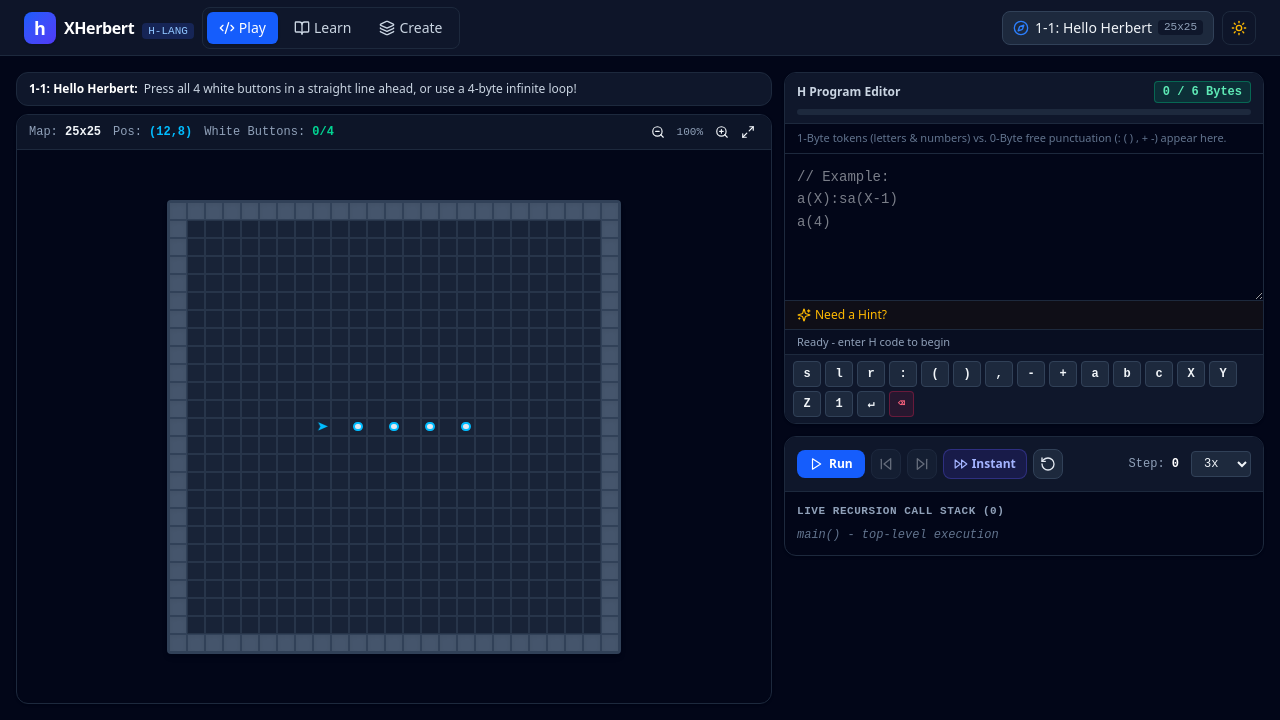
Scenario: XHerbert Full UI Integration Tests (Play, Learn, Create & Theme) › switches levels via the 50-level Level Selector Modal with chapter filters and progress summary
What coordinates should you click on to do the following:
click the button with test id "level-selector-btn"
I would click on:
 (1108, 28)
Its box is [1002,10,1214,44].
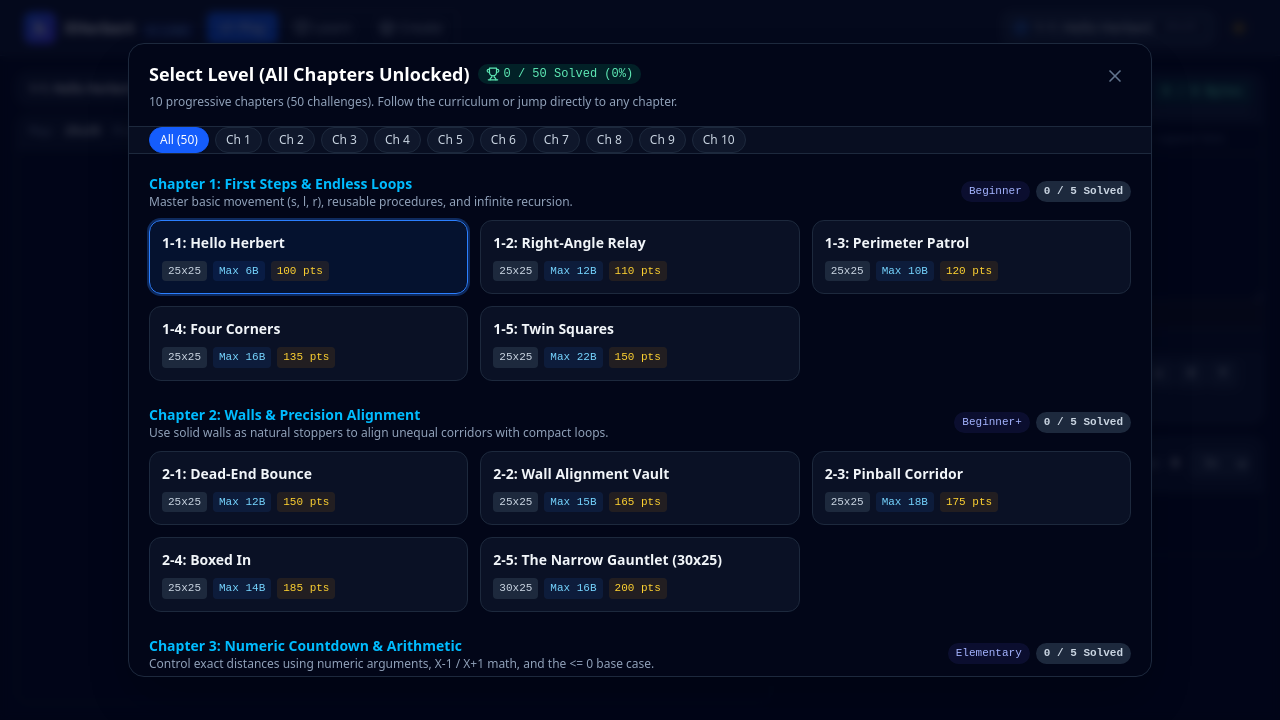
Expected: the element with test id "level-modal" is shown
Expected: the element with test id "campaign-progress-summary" shows "0 / 50 Solved", [478,64,641,84]
What coordinates should you click on to do the following:
click the button with test id "chapter-filter-4"
I would click on:
 (397, 140)
Its box is [374,127,421,153].
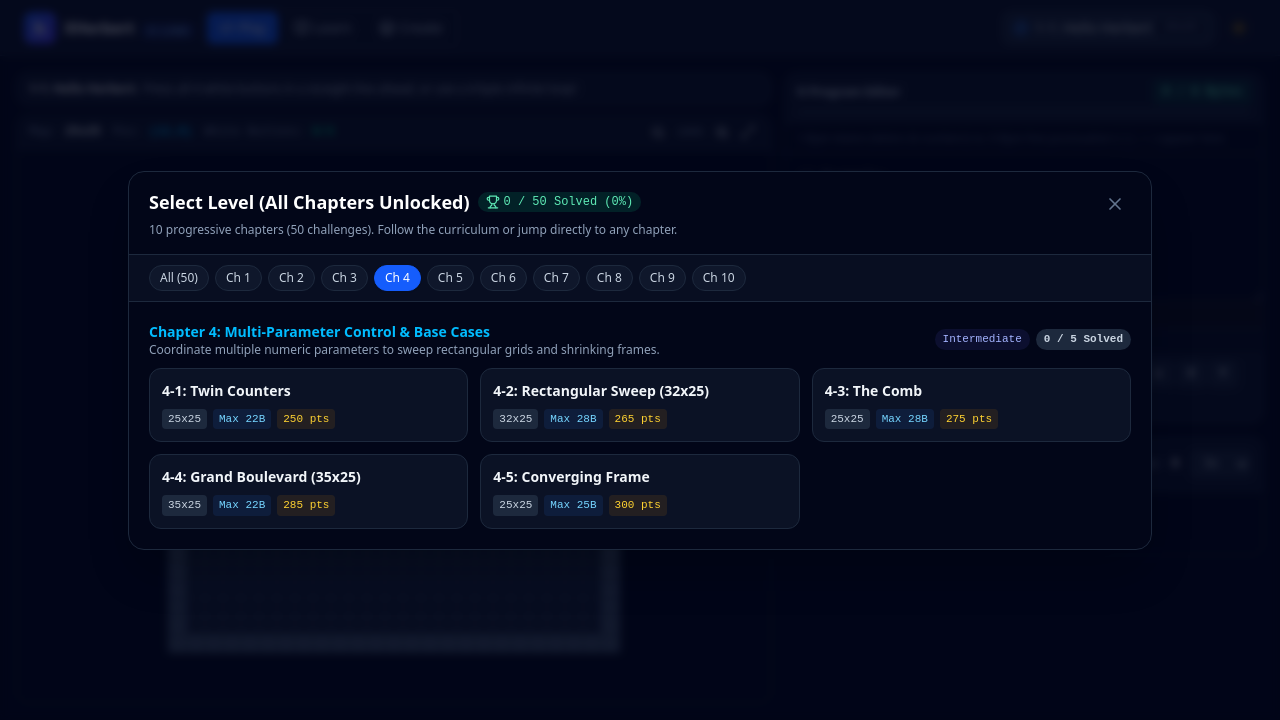
Expected: the button with test id "select-level-c1-hello-herbert" is gone
Expected: the button with test id "select-level-c4-wide-boulevard-35x25" is shown
What coordinates should you click on to do the following:
click the button with test id "select-level-c4-wide-boulevard-35x25"
I would click on:
 (261, 476)
Its box is [149,454,468,528].
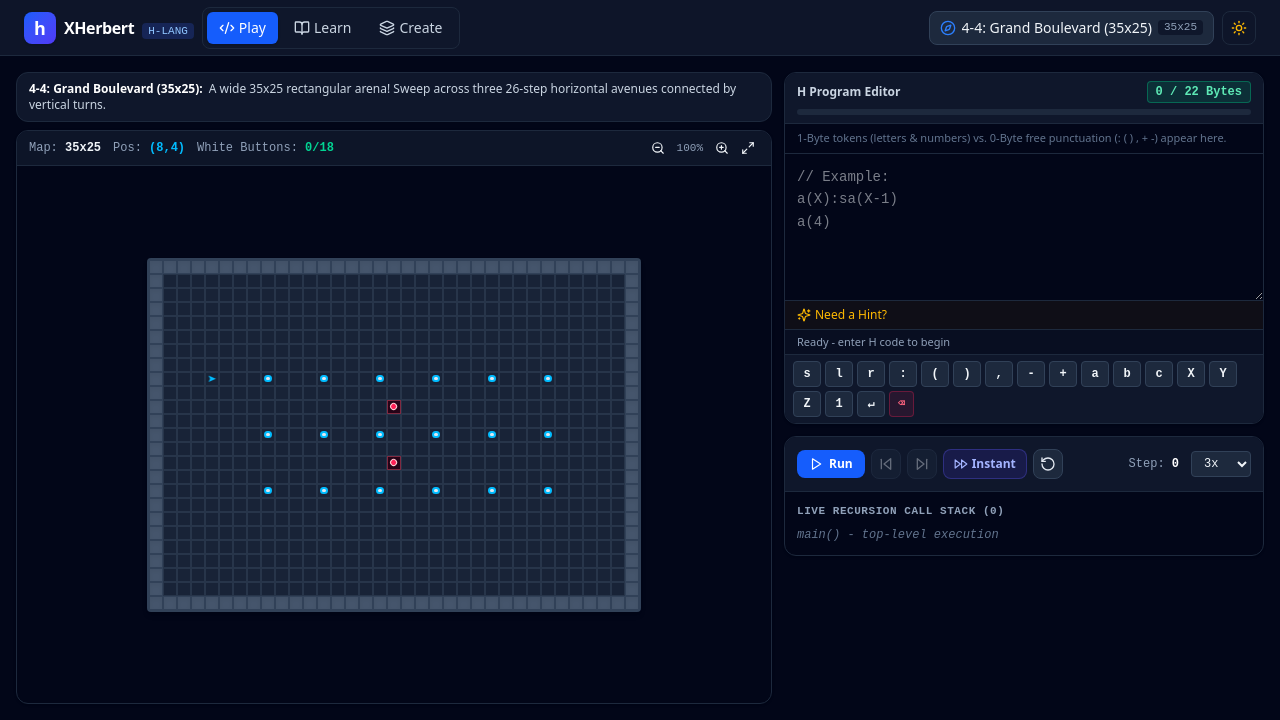
Expected: the text with test id "current-level-title" reads "4-4: Grand Boulevard (35x25)", [962,18,1152,36]
Expected: the text with test id "grid-dimensions-badge" reads "35x25", [1164,21,1197,33]
What coordinates should you click on to do the following:
click the button with test id "level-selector-btn"
I would click on:
 (1071, 28)
Its box is [929,10,1214,44].
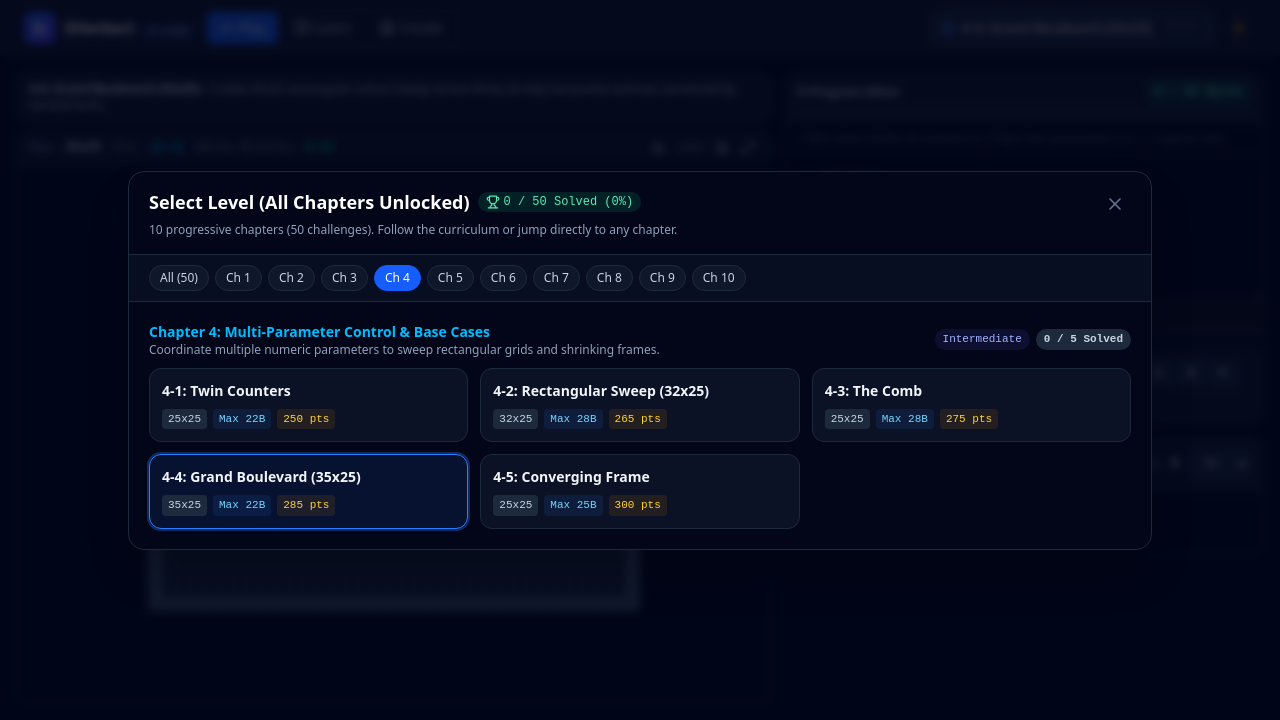
What coordinates should you click on to do the following:
click the button with test id "chapter-filter-9"
I would click on:
 (662, 278)
Its box is [639,264,686,290].
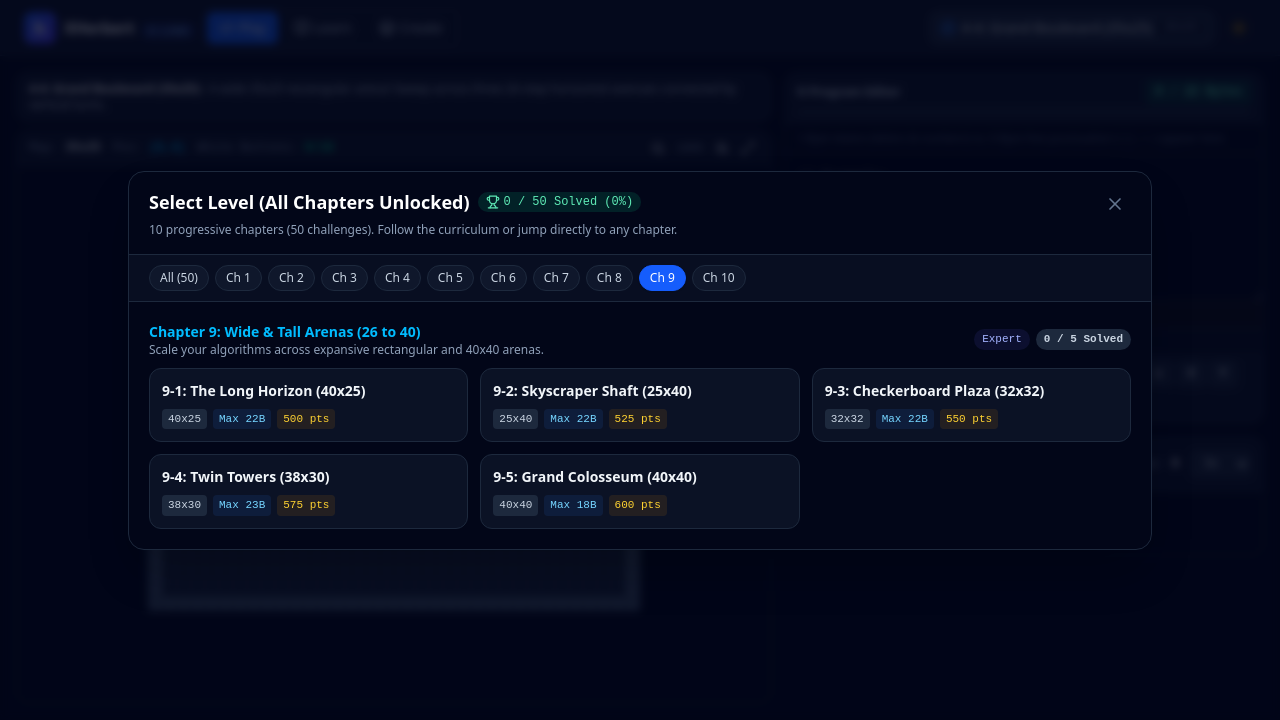
What coordinates should you click on to do the following:
click the button with test id "select-level-c9-grand-colosseum-40x40"
I would click on:
 (595, 476)
Its box is [480,454,800,528].
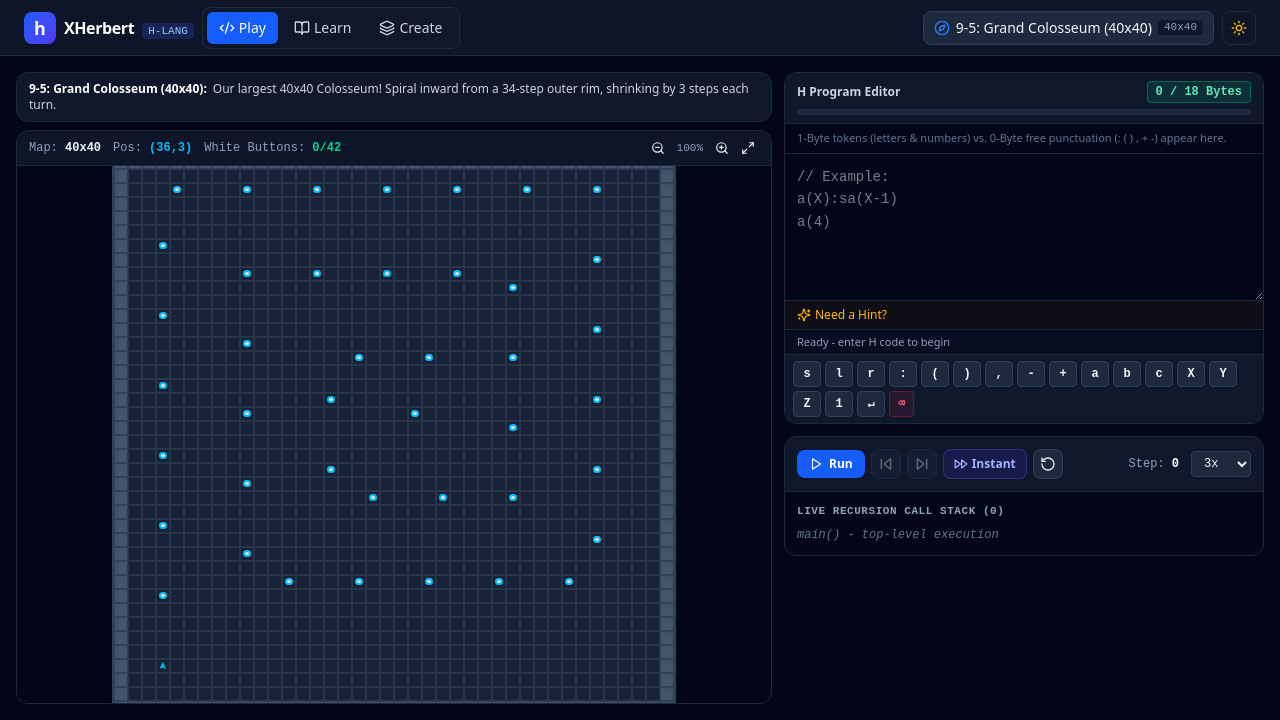
Expected: the text with test id "current-level-title" reads "9-5: Grand Colosseum (40x40)", [956,18,1152,36]
Expected: the text with test id "grid-dimensions-badge" reads "40x40", [1164,21,1197,33]
